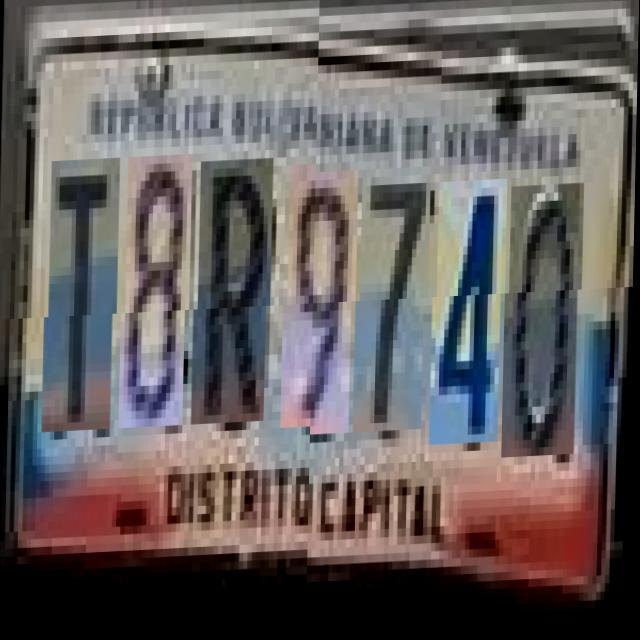4: (436, 184, 508, 450)
7: (359, 171, 432, 436)
8: (124, 164, 194, 438)
9: (286, 174, 359, 439)
O: (508, 189, 585, 463)
R: (197, 170, 274, 434)
T: (48, 167, 120, 441)
